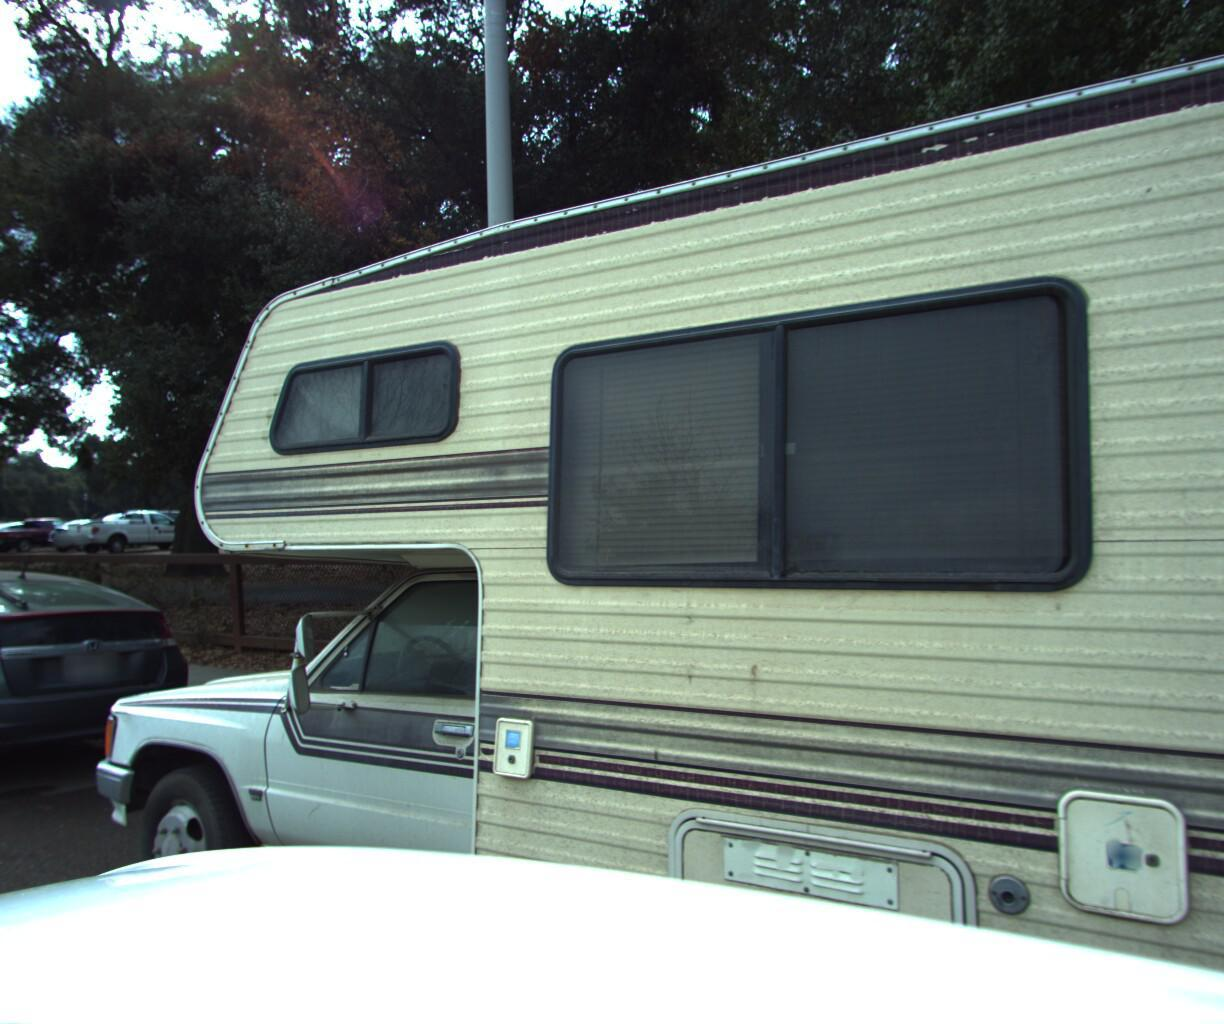car: (0, 550, 224, 838)
other_vehicle: (0, 0, 1224, 1024)
